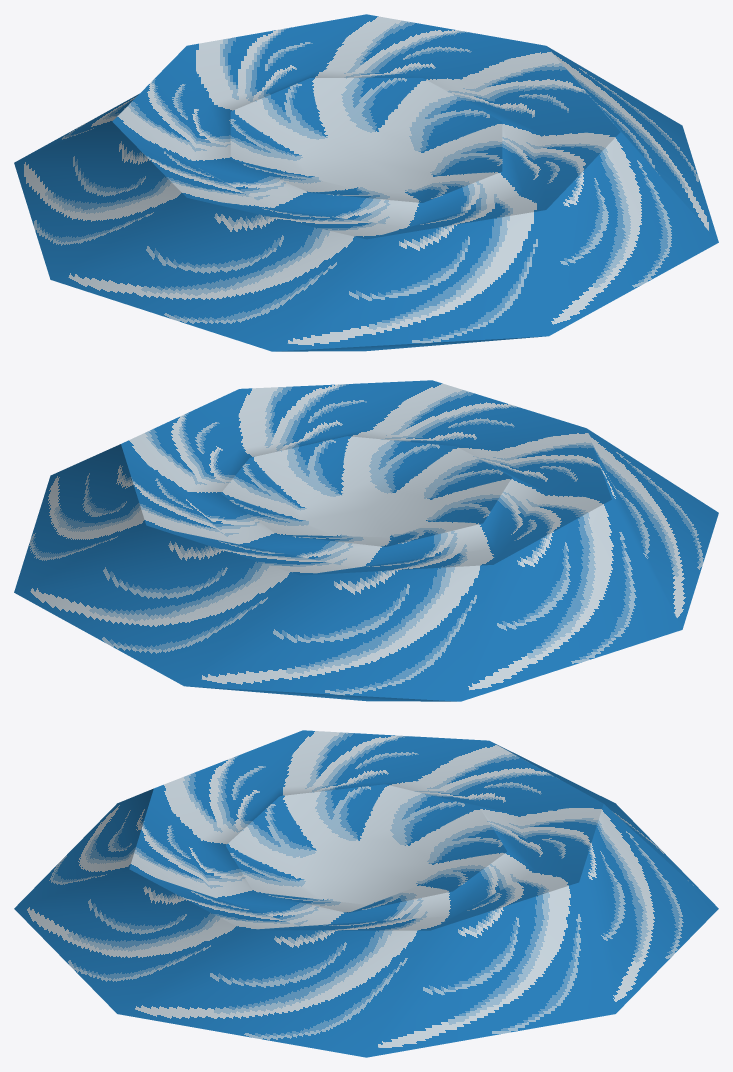
File: 02d7_Whirlpool.glb
The picture shows the model from 3 angles, top to bottom: view 1: azimuth 30°, elevation 25°; view 2: azimuth 150°, elevation 25°; view 3: azimuth 270°, elevation 25°; orthographic projection. The views are drawn at different scales.
Visible parts, largest first — view 1: part_0; view 2: part_0; view 3: part_0.
Part boxes in pixels (x1=…): part_0: x1=14, y1=14, x2=718, y2=351; part_0: x1=14, y1=380, x2=718, y2=701; part_0: x1=14, y1=730, x2=718, y2=1057.
Size of the model in its own units: 90 by 31.22 by 90.
1 material, 1 textured.
